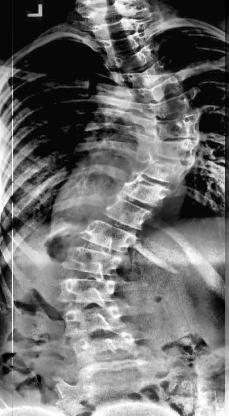Vertebrae: (60, 276, 124, 306), (65, 308, 131, 335), (101, 198, 155, 226), (64, 248, 126, 272), (150, 113, 208, 138), (80, 224, 138, 248), (125, 180, 171, 208), (147, 95, 199, 119), (152, 140, 202, 164), (114, 46, 164, 68), (99, 32, 151, 52), (143, 160, 189, 182), (126, 62, 172, 84), (139, 78, 183, 98), (93, 19, 137, 36)
